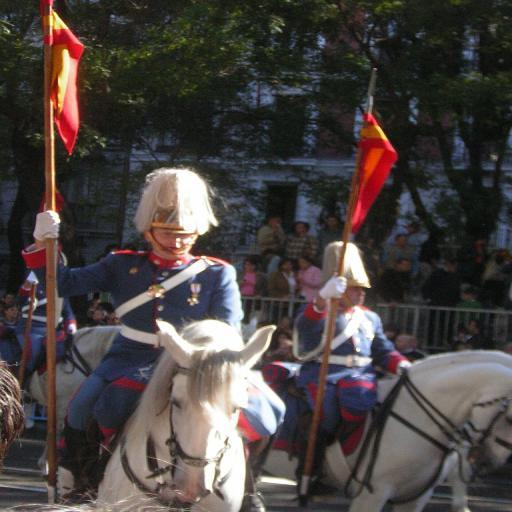horse: (52, 316, 280, 512), (254, 352, 512, 512), (26, 323, 126, 472)
